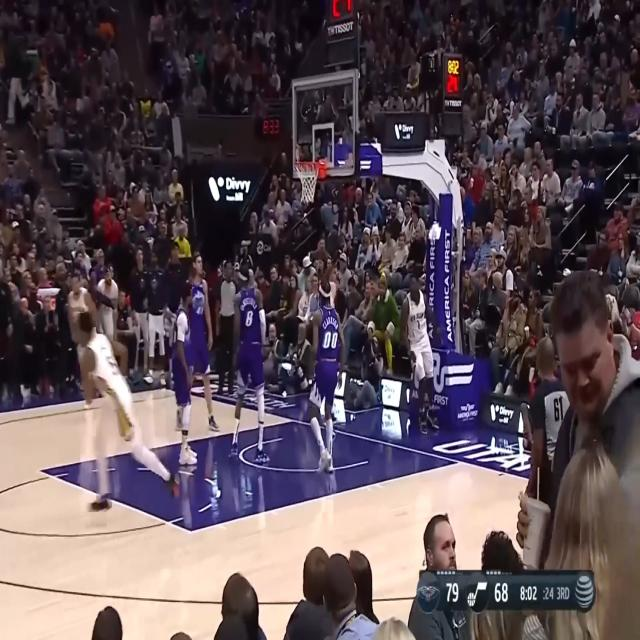Hoop: (295, 160, 322, 205)
Period: (556, 583, 570, 603)
Player: (75, 308, 180, 516), (226, 263, 272, 465), (176, 248, 220, 432), (309, 276, 343, 476), (400, 272, 441, 434), (68, 270, 105, 406), (170, 282, 197, 464)
Ref: (524, 332, 570, 506), (214, 258, 240, 396)
Shot Clock: (543, 585, 554, 603)
Team Points: (445, 579, 460, 606), (496, 580, 508, 605)
Time Remaining: (518, 580, 540, 604)
